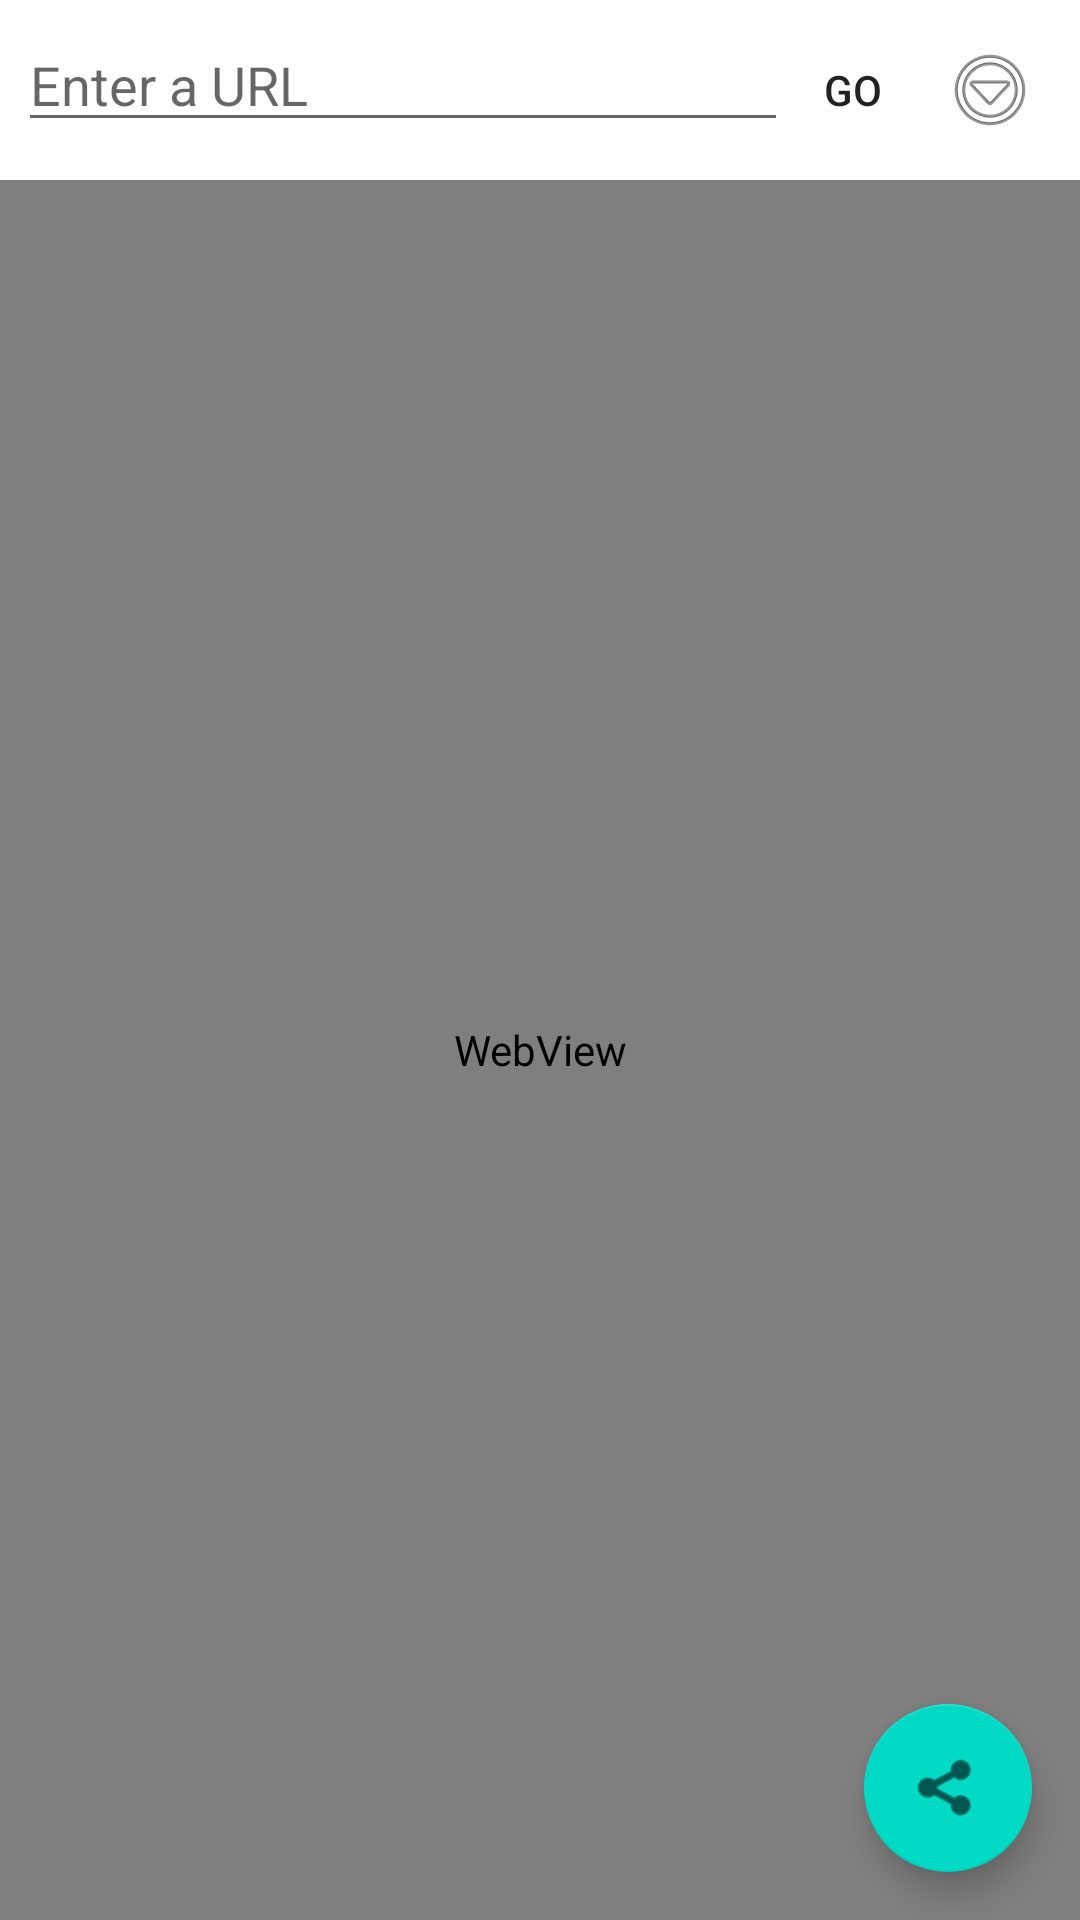

Icons on this 1080 × 1920 Android screen, each with its box as (x1, y1, x2, y2):
More actions: (954, 54, 1026, 126)
